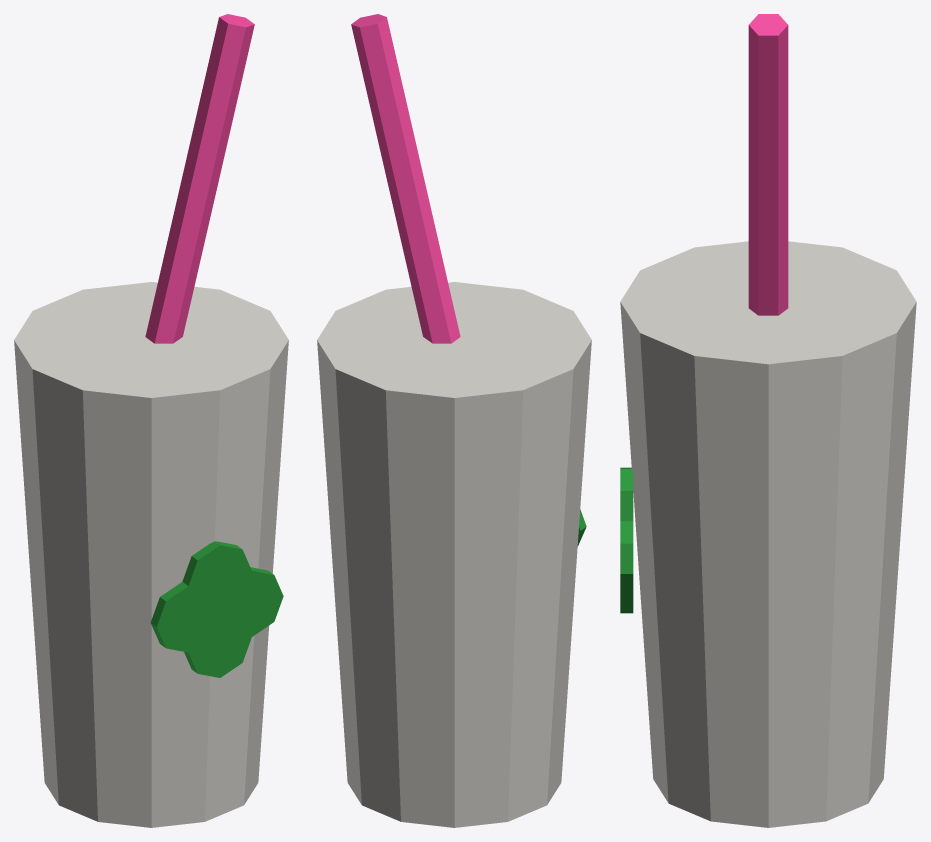
File: gym_shake_cup.glb
3 views of the same model, side by side, from view 1: azimuth 30°, elevation 25°; view 2: azimuth 150°, elevation 25°; view 3: azimuth 270°, elevation 25° (orthographic). The views are drawn at different scales.
Parts seen in each view (by area): view 1: cup_cup_plastic, straw_straw_pink, clover_clover_green; view 2: cup_cup_plastic, straw_straw_pink; view 3: cup_cup_plastic, straw_straw_pink, clover_clover_green.
Boxes of the visible parts, x1,y1,x2,y2 form: cup_cup_plastic: (14,282,288,827); straw_straw_pink: (145,14,254,343); clover_clover_green: (150,541,283,677); cup_cup_plastic: (317,282,591,827); straw_straw_pink: (351,14,460,343); cup_cup_plastic: (620,241,916,827); straw_straw_pink: (748,14,788,315); clover_clover_green: (620,467,633,613).
Bounding box in the file's own units: 0.09 × 0.2691 × 0.09.
